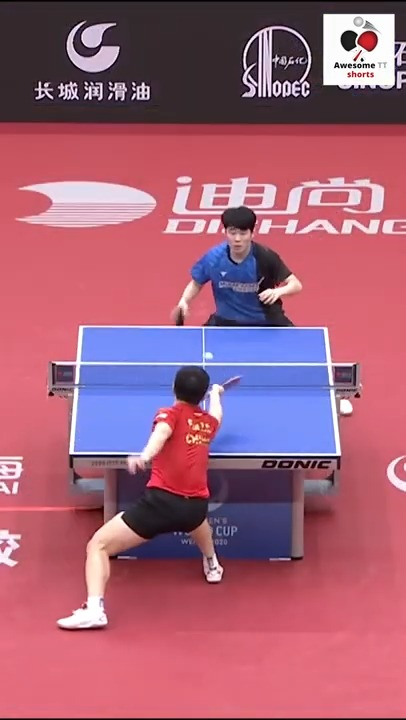Ball: (201, 349, 213, 362)
